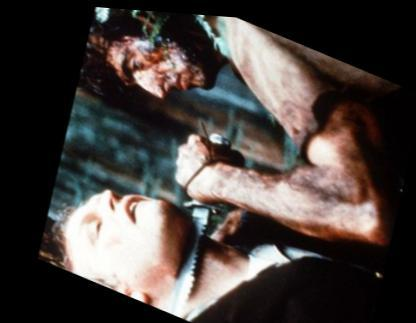knife: (110, 131, 247, 321)
